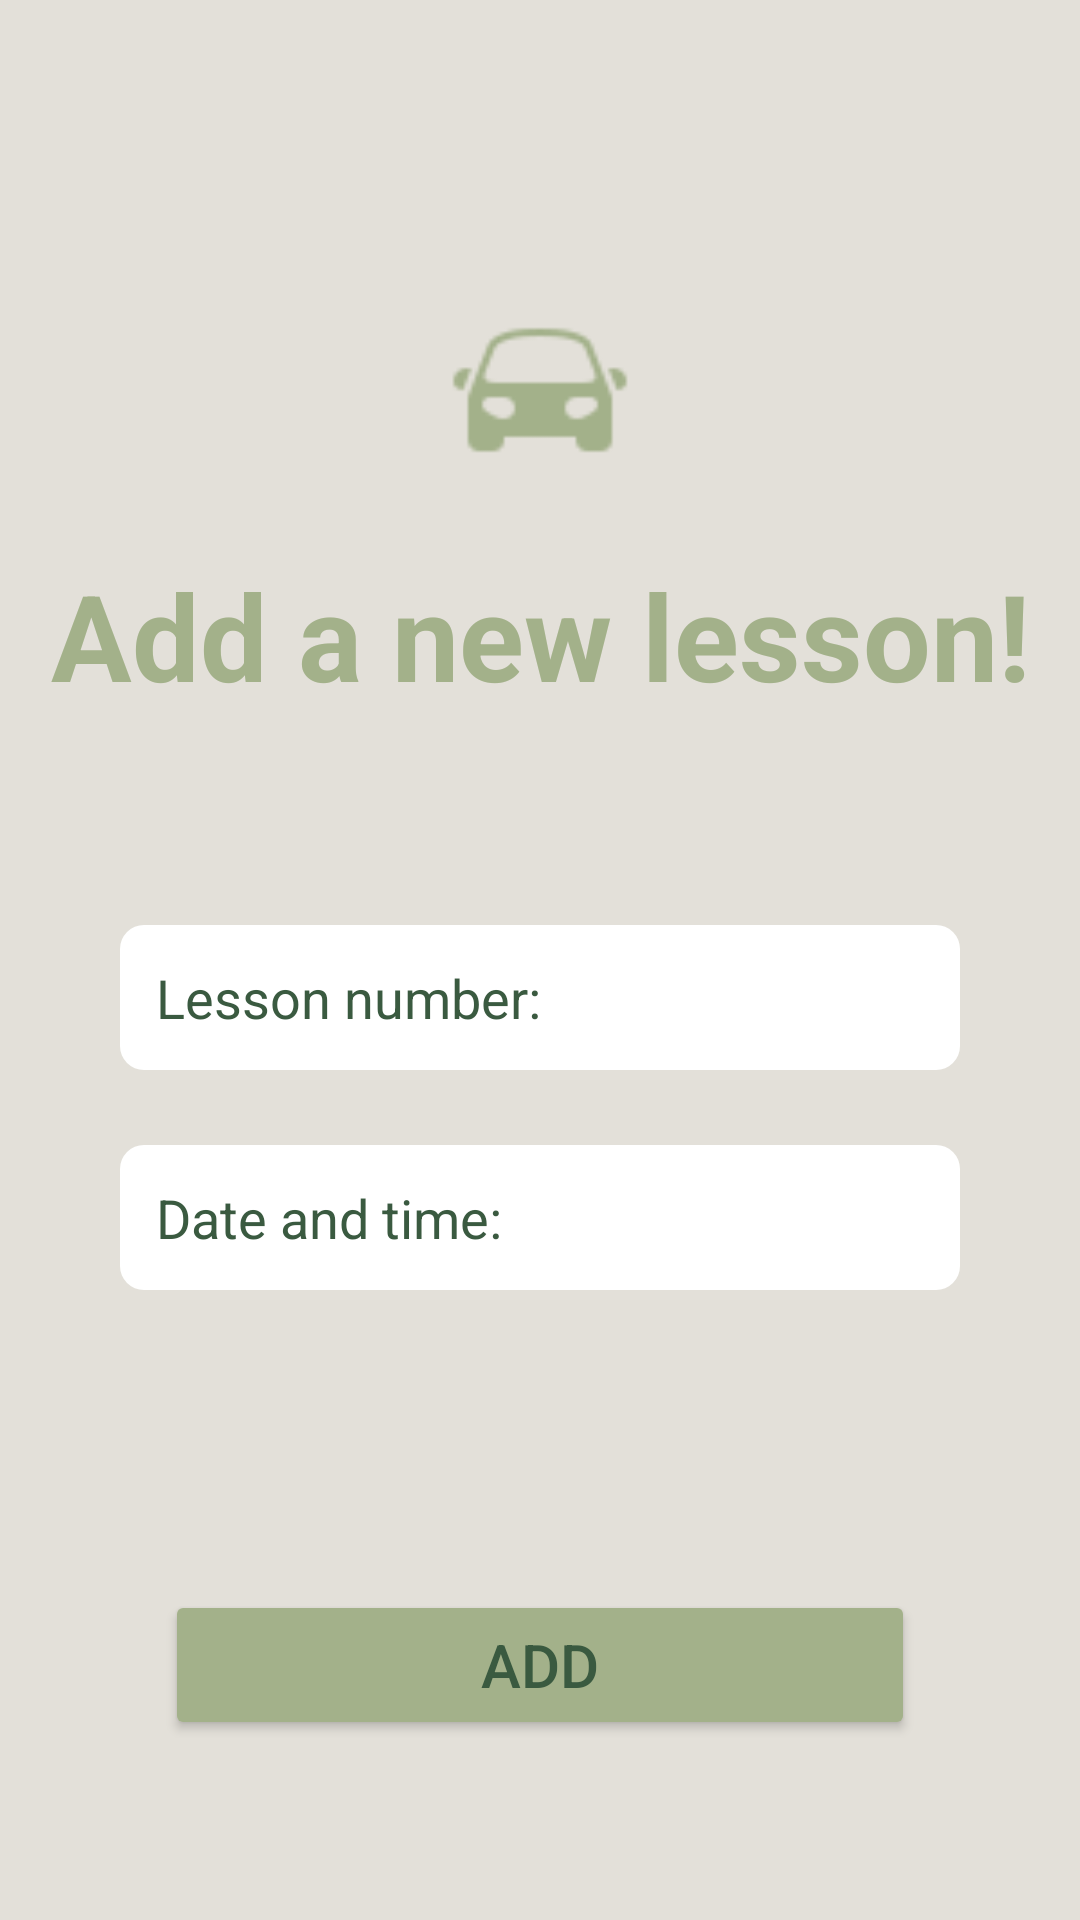

Where icons sit on this 1080×1920 app screen, as (x1, y1, x2, y2):
car: (453, 328, 627, 452)
